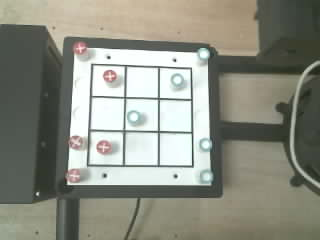blue circle: (127, 110, 141, 125), (171, 73, 184, 88), (200, 170, 213, 183), (199, 138, 211, 151), (197, 48, 209, 60)
board: (66, 42, 213, 185)
cells: (89, 132, 122, 164), (125, 132, 157, 165), (92, 65, 124, 96), (91, 98, 123, 129), (126, 99, 157, 130), (160, 134, 191, 165), (160, 100, 191, 131), (126, 67, 157, 97), (160, 68, 190, 98)
grid: (87, 64, 193, 167)
red cross: (96, 140, 111, 154), (66, 169, 81, 183), (68, 136, 83, 149), (73, 41, 86, 54), (103, 70, 116, 82)
